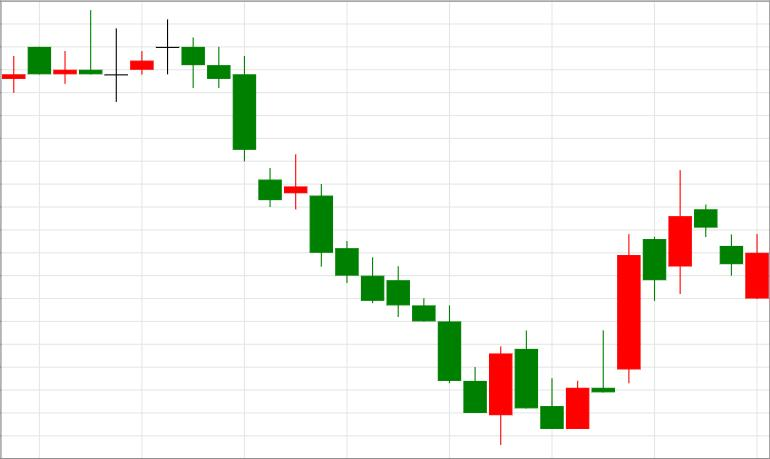bullish_engulfing_rise: (181, 37, 513, 445)
